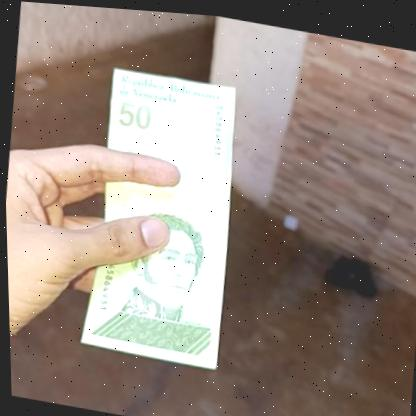fifty-front-vef: (73, 59, 246, 370)
